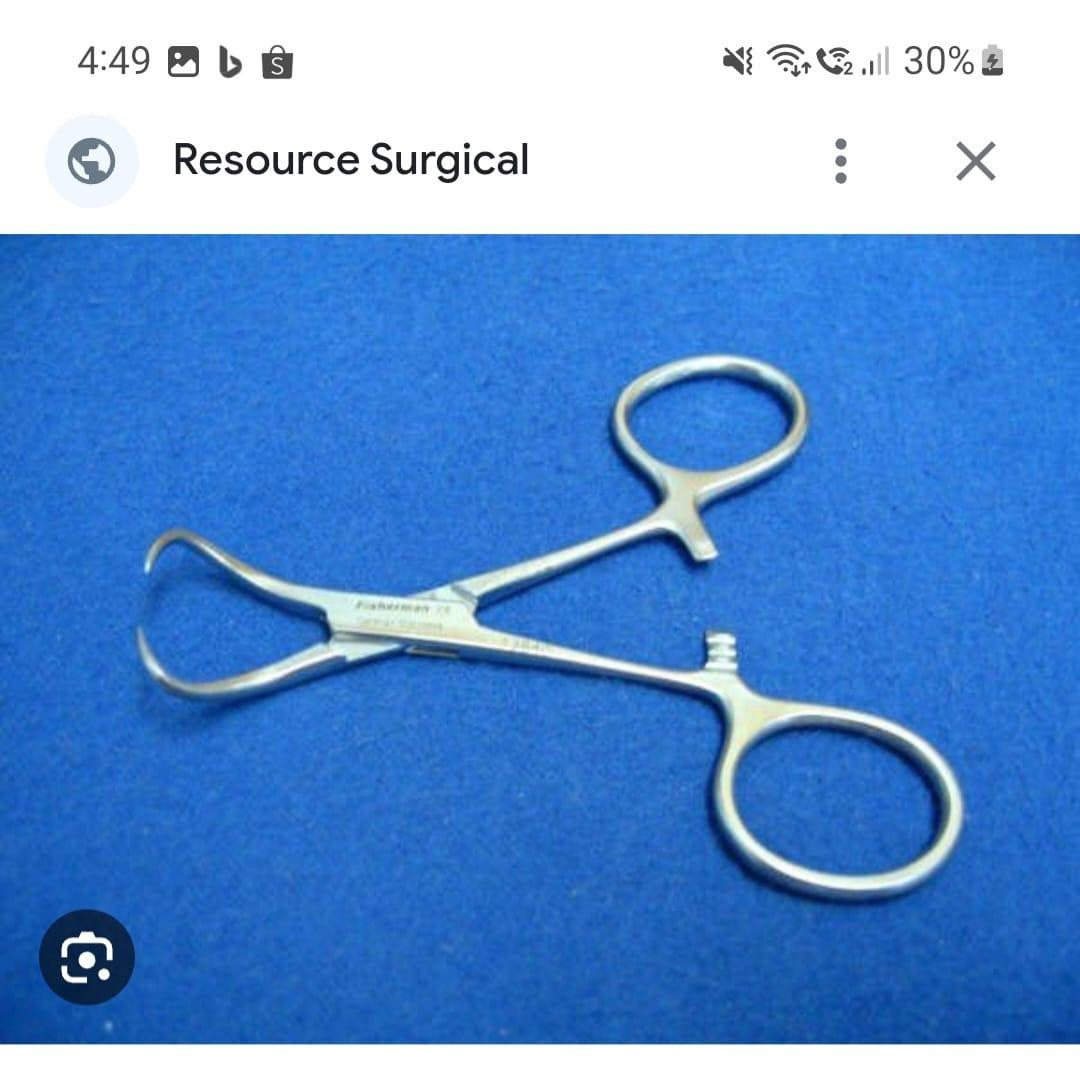Backhaus: (110, 338, 975, 910)
